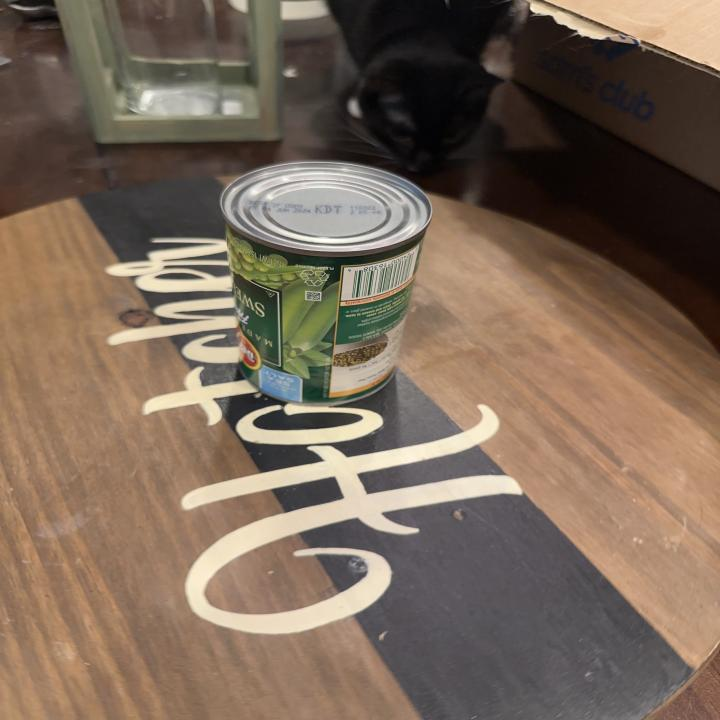Canned-Peas: (212, 160, 437, 410)
